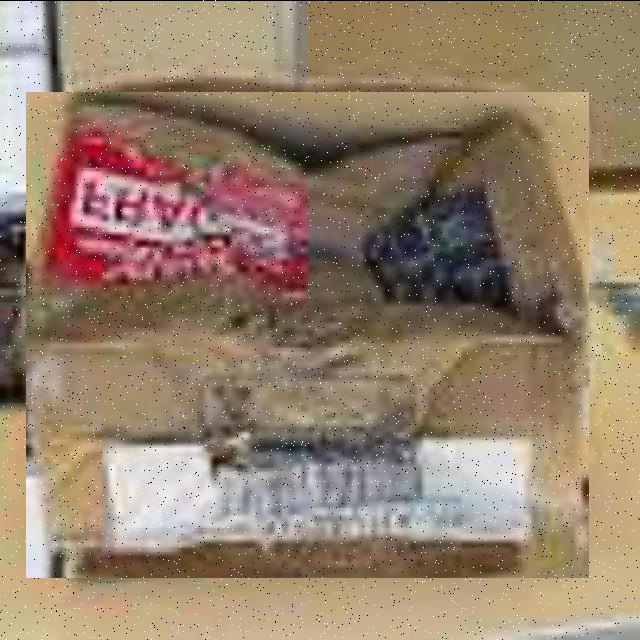defect: (26, 91, 589, 577)
